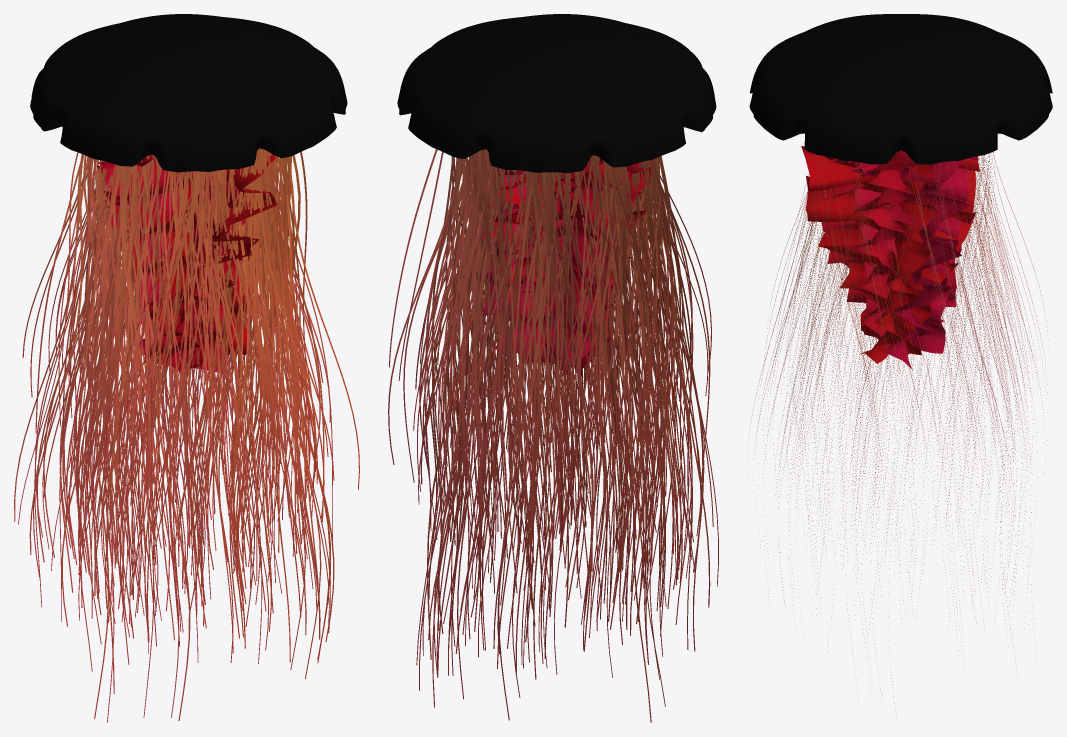
Rendered from lions_mane_jelly.glb.
3 views of the same model, side by side, from view 1: azimuth 30°, elevation 25°; view 2: azimuth 150°, elevation 25°; view 3: azimuth 270°, elevation 25° (orthographic). The views are drawn at different scales.
Visible parts, largest first — view 1: lions_mane_jelly; view 2: lions_mane_jelly; view 3: lions_mane_jelly.
Part boxes in pixels (left/top/right/bottom): lions_mane_jelly: left=14, top=14, right=359, bottom=722; lions_mane_jelly: left=388, top=14, right=718, bottom=722; lions_mane_jelly: left=747, top=14, right=1052, bottom=718.
Size of the model in its own units: 1.56 by 3.37 by 1.51.
